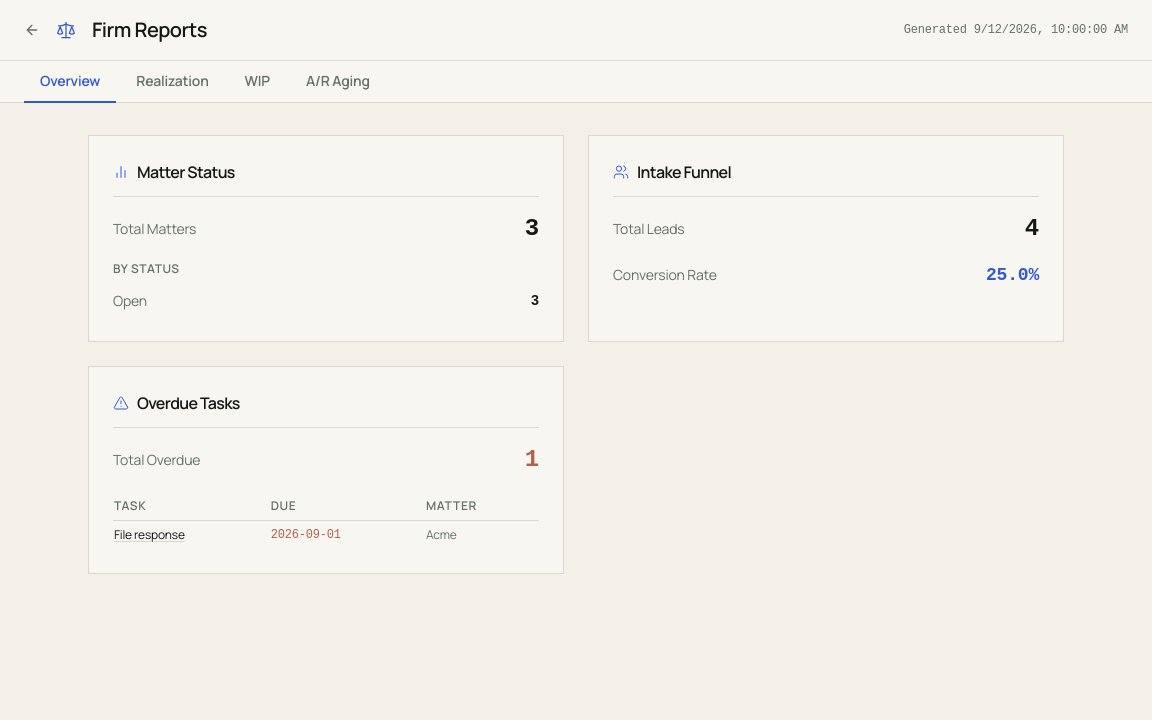
Test: ReportsPage › separates billed from collected on the realization report
Click the tab "Realization" at (172, 82), box [120,61,225,103]
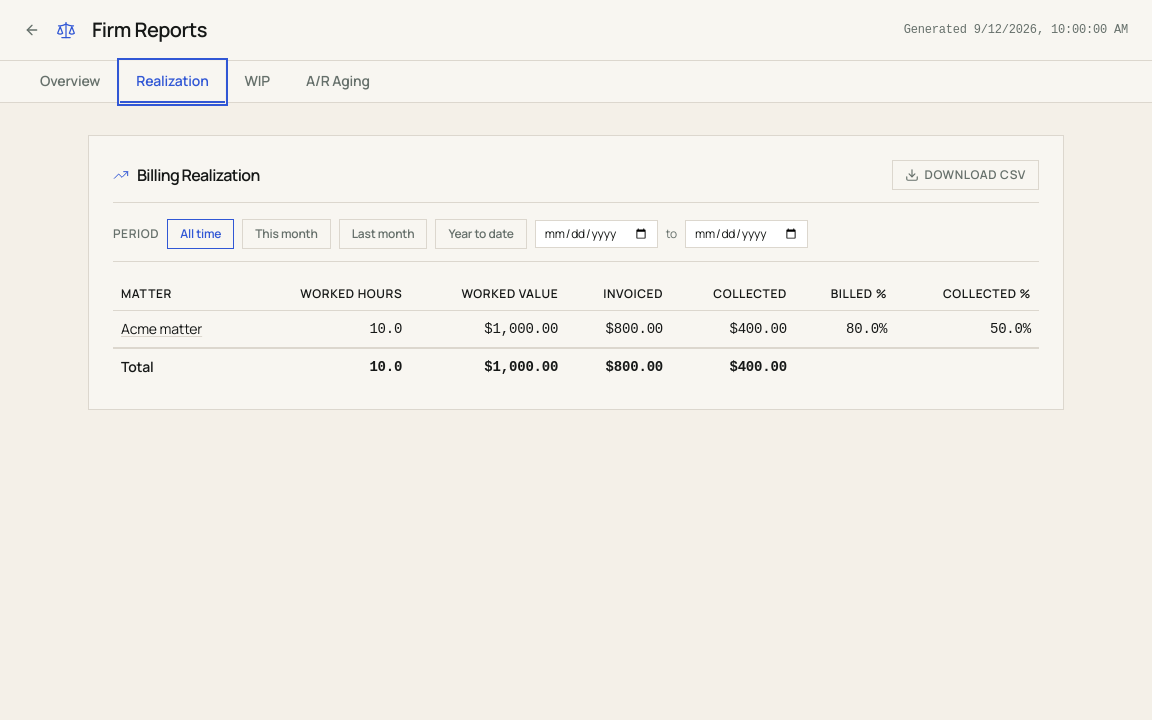
Check: the button "Invoiced" is shown, box [603,286,663,302]
Check: the text "$800.00" in the row of "Acme matter" is shown, box [606,321,663,337]
Check: the text "80.0%" is shown, box [795,310,895,348]
